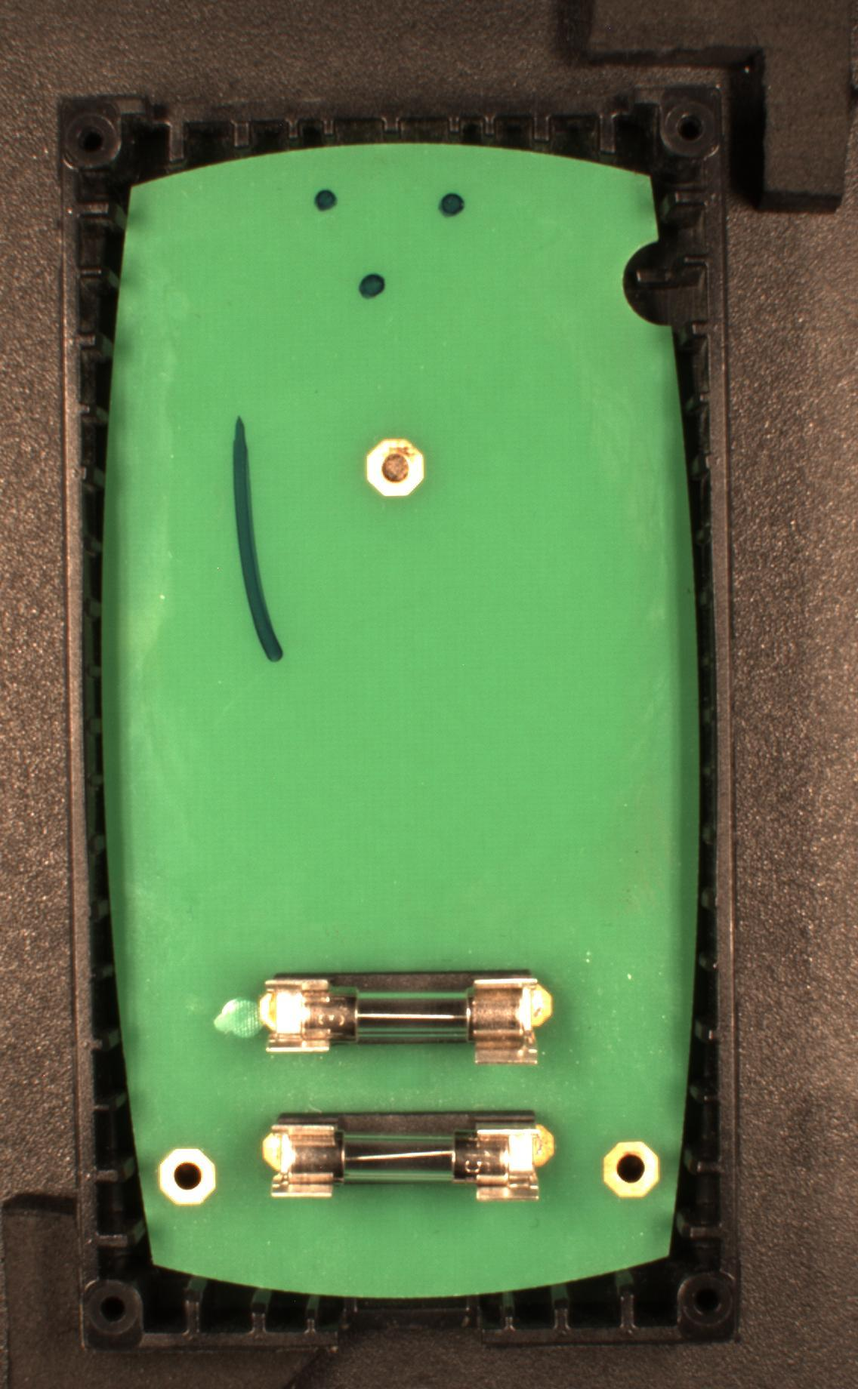Linijsko Ostecene: (229, 410, 288, 664)
Tockasto Ostecenje: (356, 269, 390, 302), (435, 189, 469, 220), (310, 183, 340, 216)
